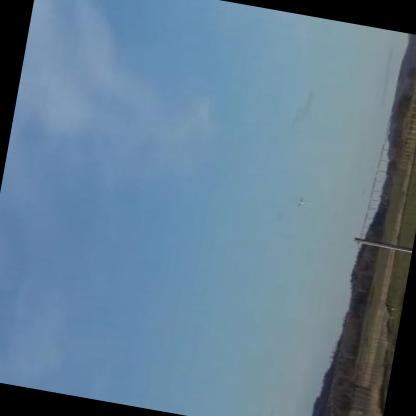plane: (293, 195, 307, 209)
